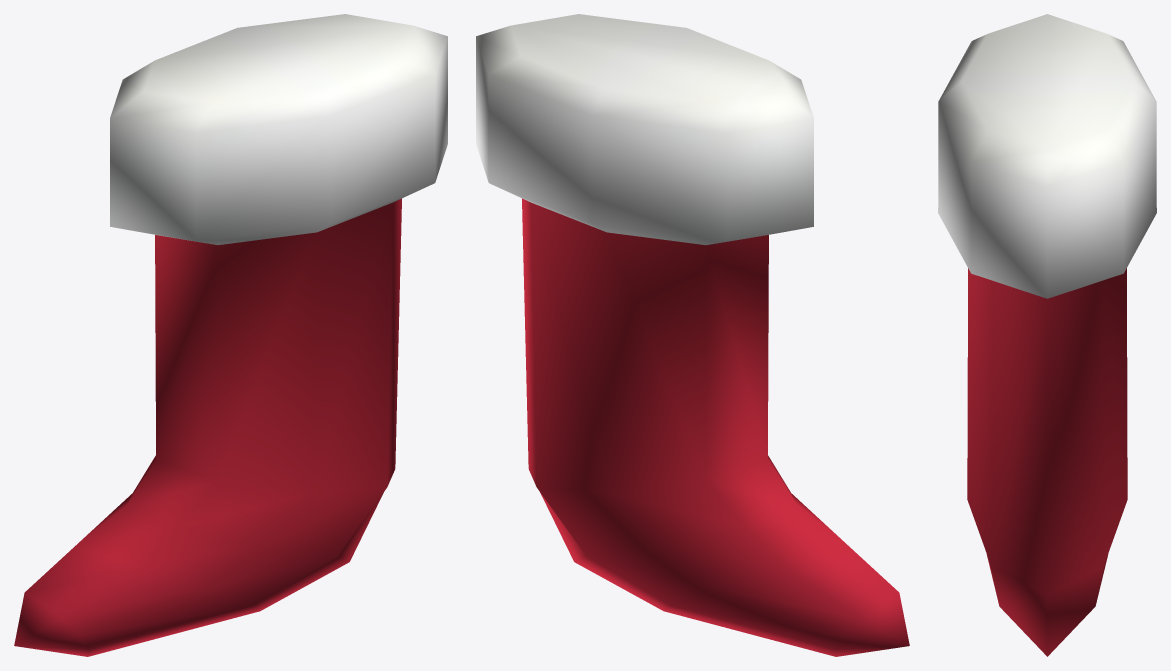
Rendered from pm-sock-xmas.glb.
3 renders of one model, left to right at view 1: azimuth 30°, elevation 25°; view 2: azimuth 150°, elevation 25°; view 3: azimuth 270°, elevation 25°, orthographic. The views are drawn at different scales.
Visible parts, largest first — view 1: SockXmas; view 2: SockXmas; view 3: SockXmas.
Part boxes in pixels (x1,y1,x2,y2): SockXmas: [14, 14, 447, 656]; SockXmas: [476, 14, 909, 656]; SockXmas: [938, 14, 1156, 656].
Size of the model in its own units: 0.8427 by 1.03 by 0.3555.
1 material, 1 textured.
